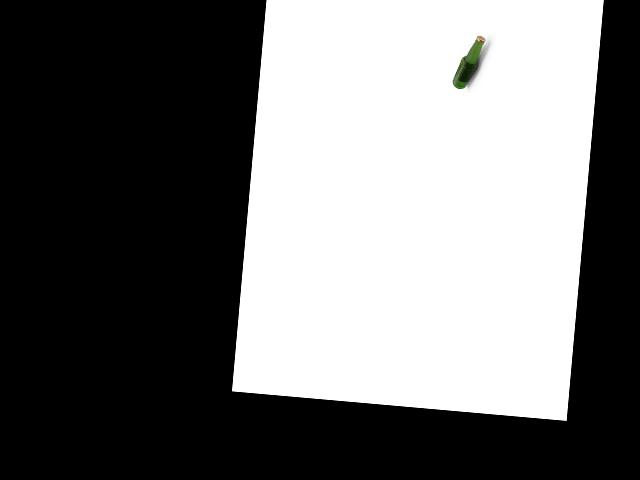beer: (452, 33, 486, 91)
